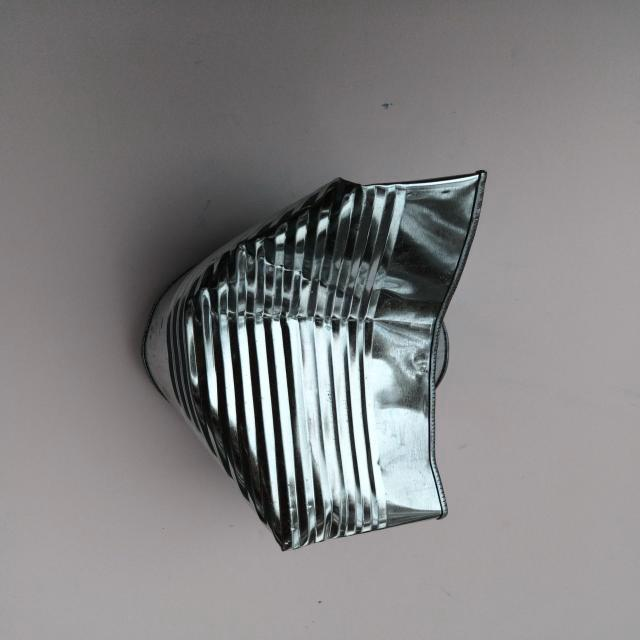metal: (128, 163, 516, 552)
